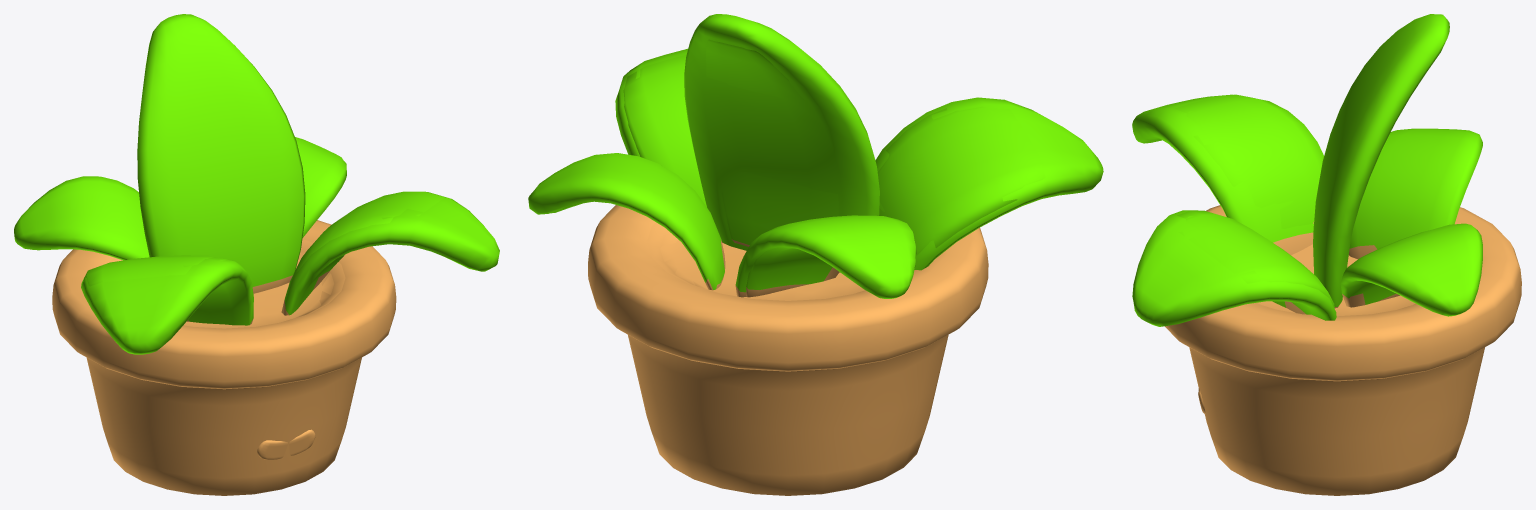
The model's file is ToyObject_005.fbx.
3 renders of one model, left to right at view 1: azimuth 30°, elevation 25°; view 2: azimuth 150°, elevation 25°; view 3: azimuth 270°, elevation 25°, orthographic. The views are drawn at different scales.
Parts seen in each view (by area): view 1: object-1.009; view 2: object-1.009; view 3: object-1.009.
Part boxes in pixels (x1,y1,x2,y2): object-1.009: [14, 14, 499, 495]; object-1.009: [528, 14, 1103, 495]; object-1.009: [1132, 14, 1521, 495].
Bounding box in the file's own units: 0.1529 × 0.1543 × 0.1259.
